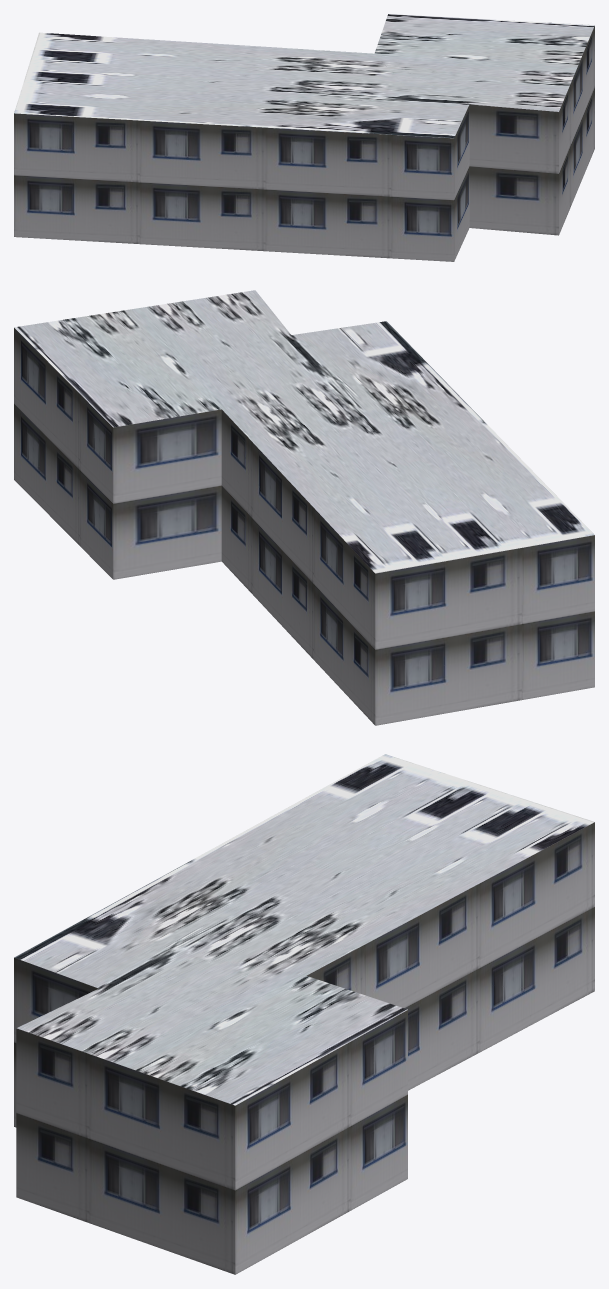
File: ResTex__187.fbx
The picture shows the model from 3 angles, top to bottom: view 1: azimuth 30°, elevation 25°; view 2: azimuth 150°, elevation 25°; view 3: azimuth 270°, elevation 25°; orthographic projection. The views are drawn at different scales.
Visible parts, largest first — view 1: CityEngineMaterial_9_m, CityEngineMaterial_4_m; view 2: CityEngineMaterial_9_m, CityEngineMaterial_4_m; view 3: CityEngineMaterial_9_m, CityEngineMaterial_4_m.
Boxes of the visible parts, left/top/right/bottom form: CityEngineMaterial_9_m: left=14, top=26, right=594, bottom=261; CityEngineMaterial_4_m: left=14, top=14, right=594, bottom=138; CityEngineMaterial_9_m: left=14, top=328, right=594, bottom=725; CityEngineMaterial_4_m: left=14, top=290, right=594, bottom=573; CityEngineMaterial_9_m: left=14, top=822, right=594, bottom=1274; CityEngineMaterial_4_m: left=14, top=754, right=594, bottom=1105.
Bounding box in the file's own units: 26.73 × 6 × 18.67.
Materials: 2 (2 with a texture image).
